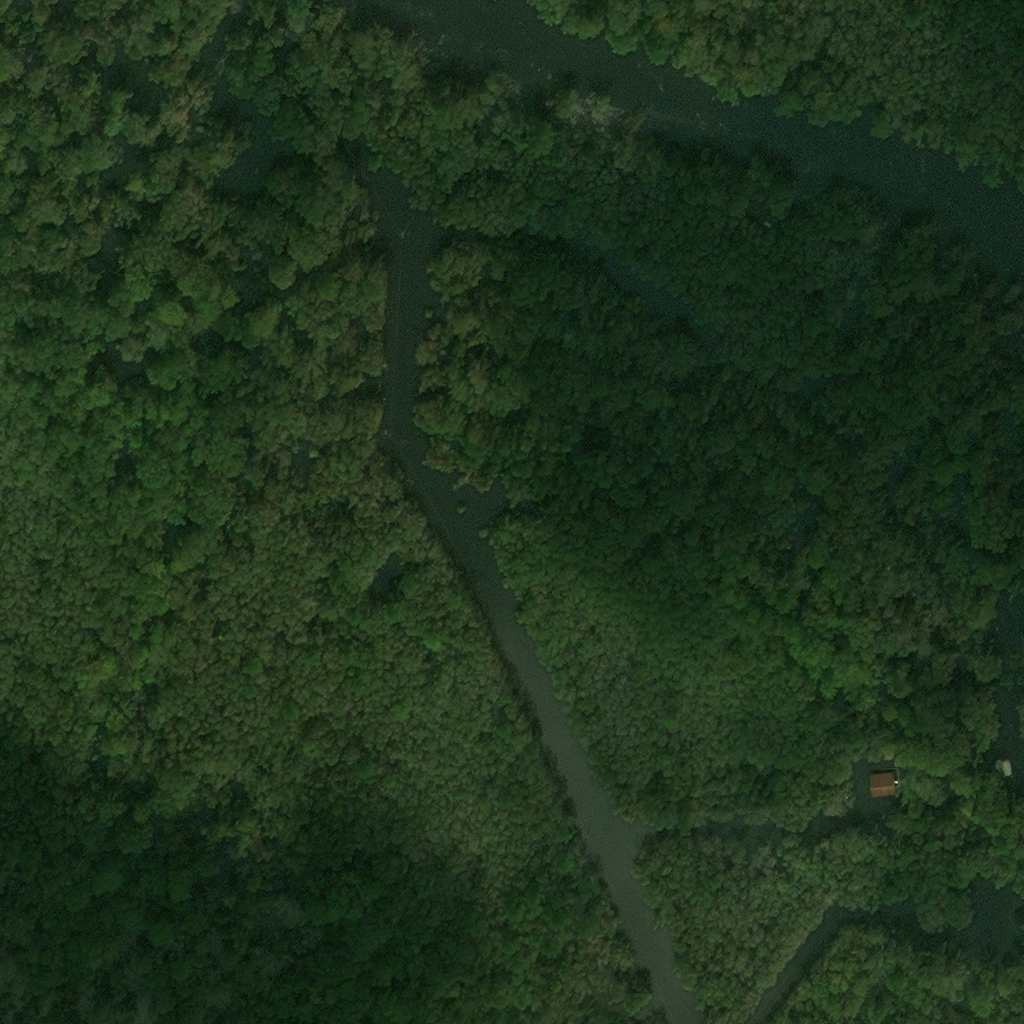major_damage: (743, 186, 777, 222), (866, 768, 896, 794)
